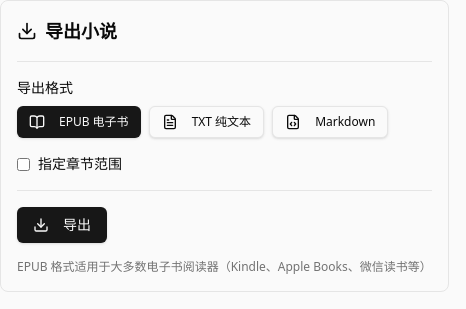
ExportPanel › shows success badge after successful export
Click the button with test id "export-button". click: (62, 225)
box: x1=17 y1=207 x2=107 y2=243
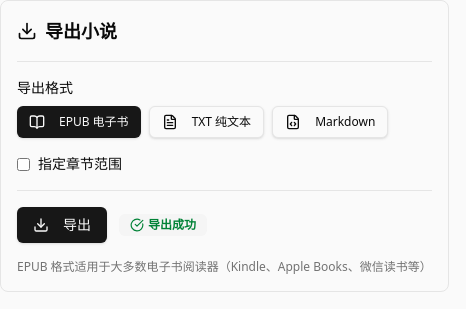
Now the element with test id "export-success" is shown, box x1=119 y1=214 x2=207 y2=236
